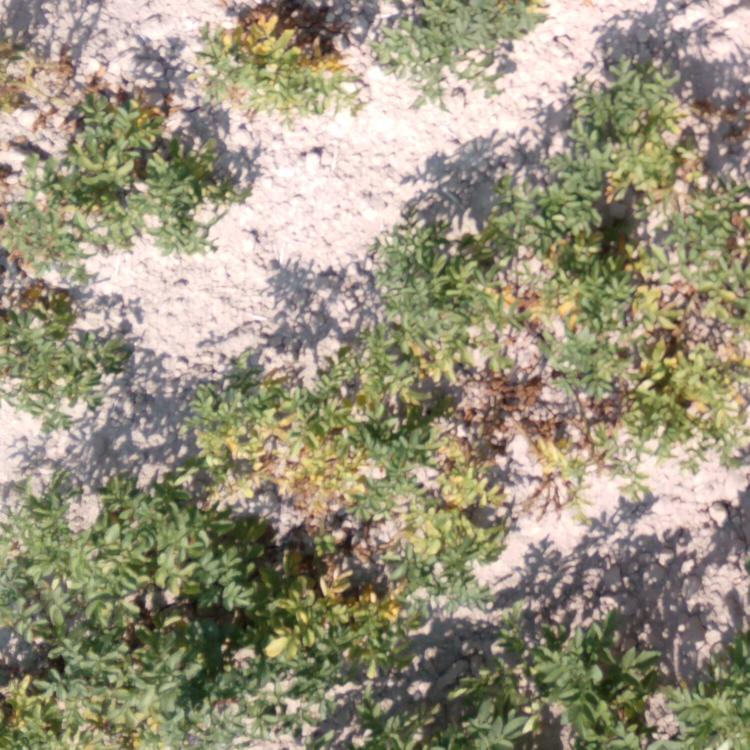healthy: (5, 527, 258, 744), (422, 631, 749, 750), (373, 1, 518, 105)
stressed: (5, 75, 206, 256), (196, 339, 391, 522), (563, 46, 749, 198), (406, 208, 621, 338), (637, 205, 748, 456), (405, 348, 621, 475), (271, 533, 414, 715), (1, 277, 120, 439), (202, 4, 341, 130), (426, 478, 518, 591)
